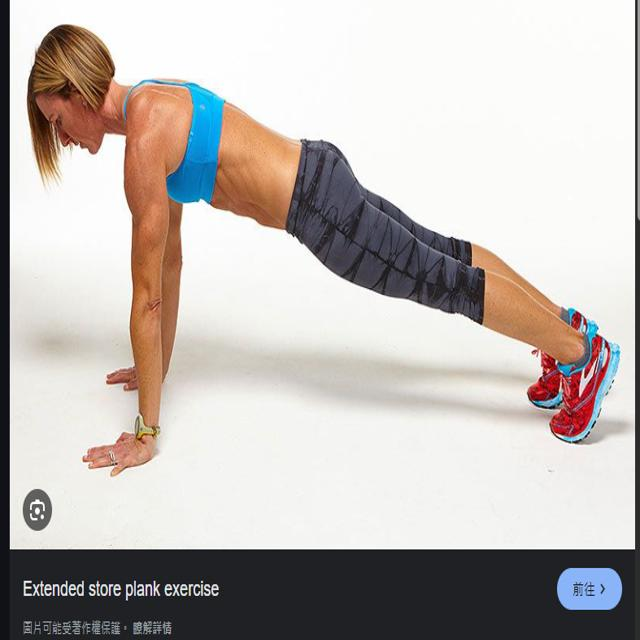Plank_Pose: (27, 22, 640, 482)
